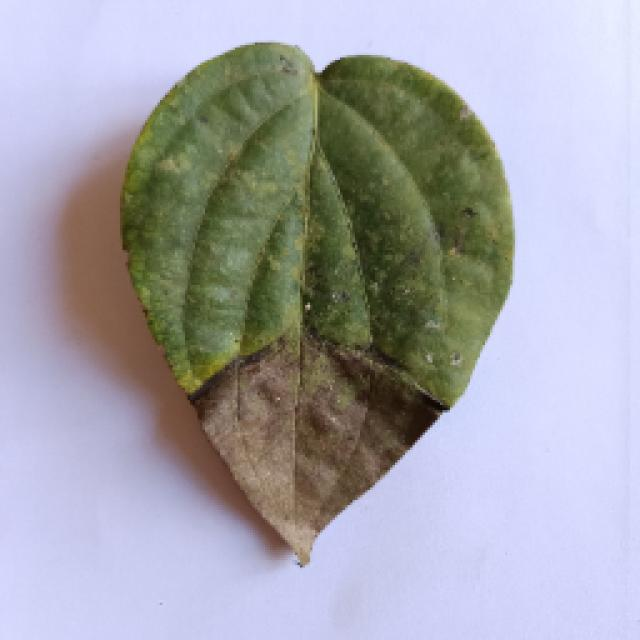footrot: (77, 45, 535, 573)
